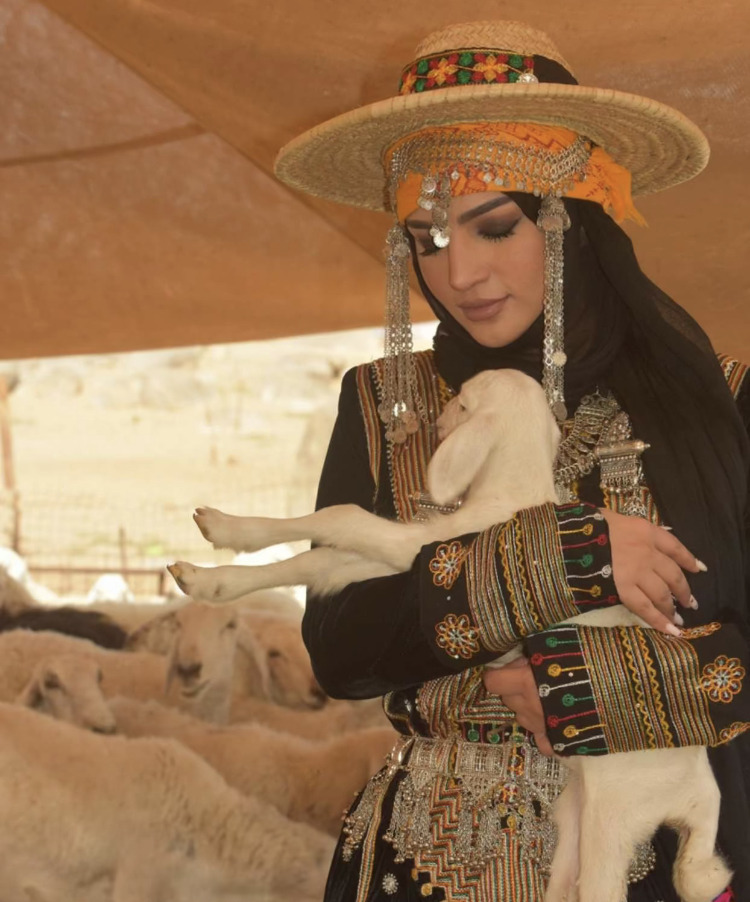Saudi_Founding_Day: (267, 16, 750, 902)
